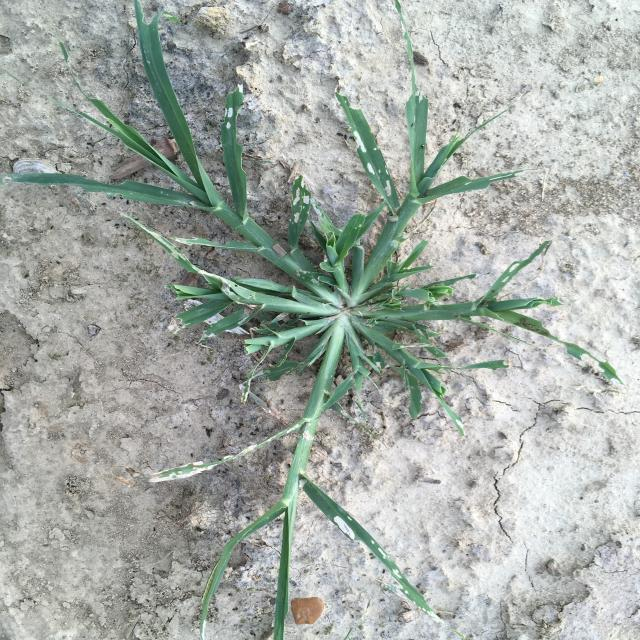Goosegrass: (9, 1, 623, 640)
